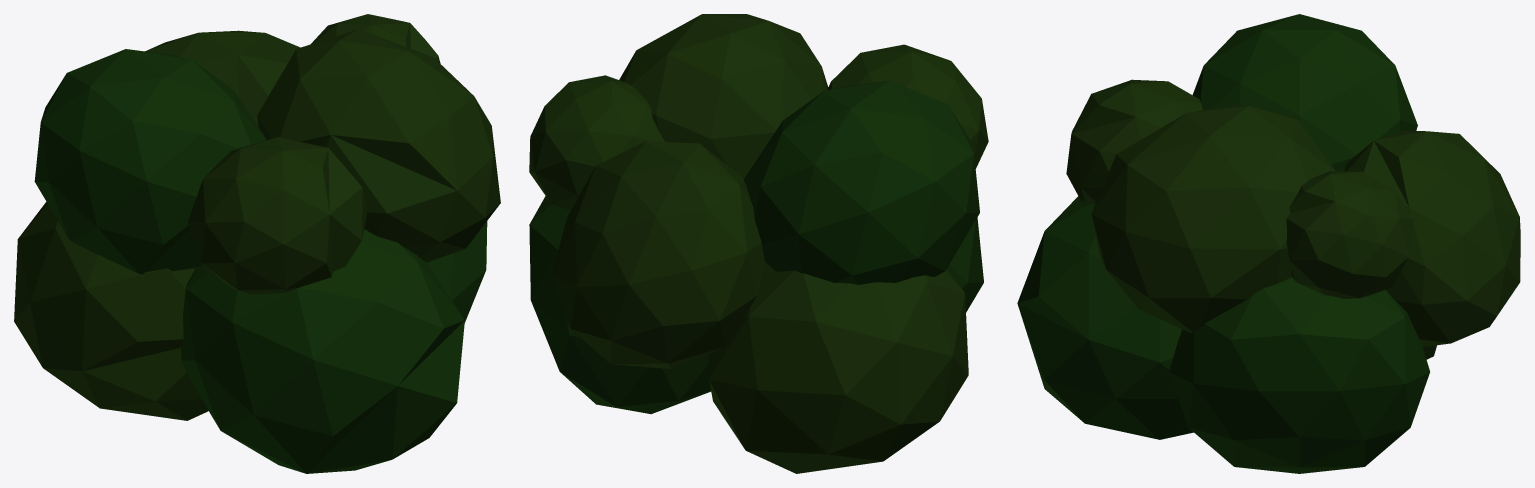
The model's file is maki.FBX.
The picture shows the model from 3 angles, left to right: view 1: azimuth 30°, elevation 25°; view 2: azimuth 150°, elevation 25°; view 3: azimuth 270°, elevation 25°; orthographic projection. The views are drawn at different scales.
Visible parts, largest first — view 1: Poplar002; view 2: Poplar002; view 3: Poplar002.
Part boxes in pixels (x1,y1,x2,y2): Poplar002: (14, 14, 500, 473); Poplar002: (529, 14, 988, 473); Poplar002: (1017, 14, 1520, 473).
Bounding box in the file's own units: 141 × 118 × 156.
